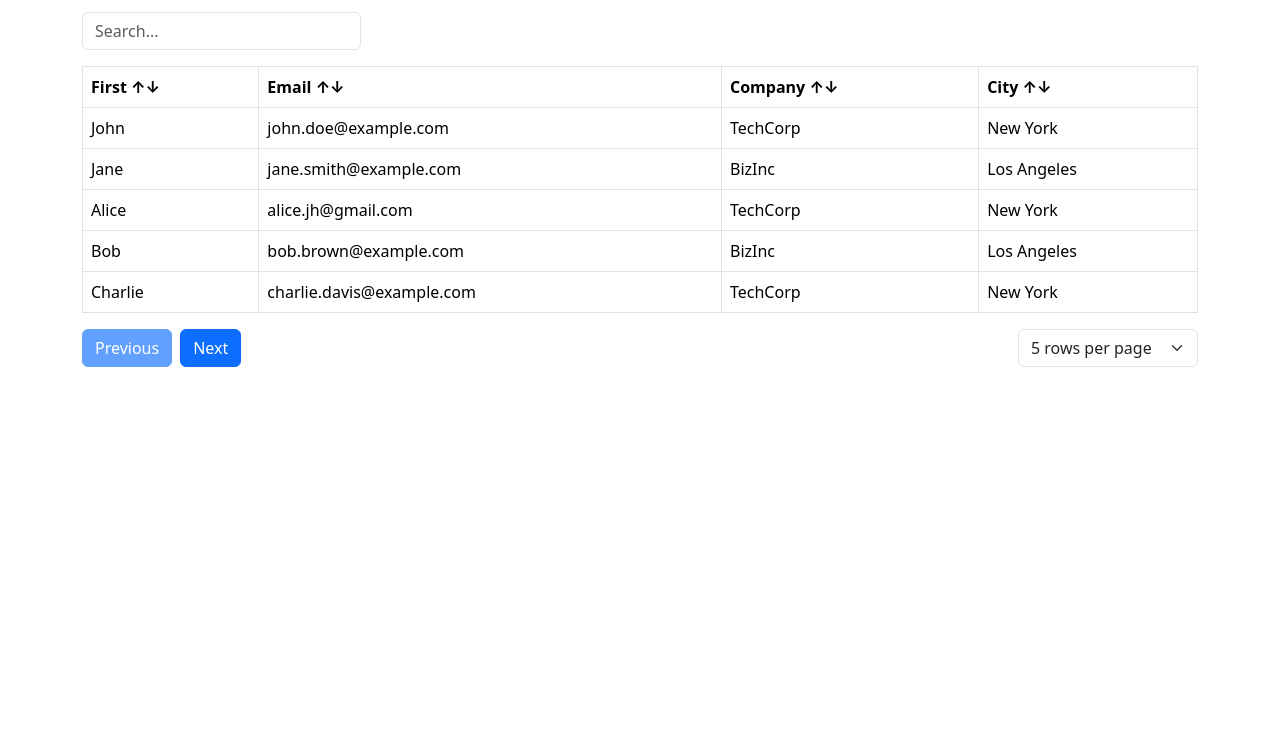
Test case: UserTable › displays user details when a card is clicked
The width and height of the screenshot is (1280, 732).
Click the row "John john.doe@example.com TechCorp New York" at (640,128), box x1=82 y1=108 x2=1198 y2=148
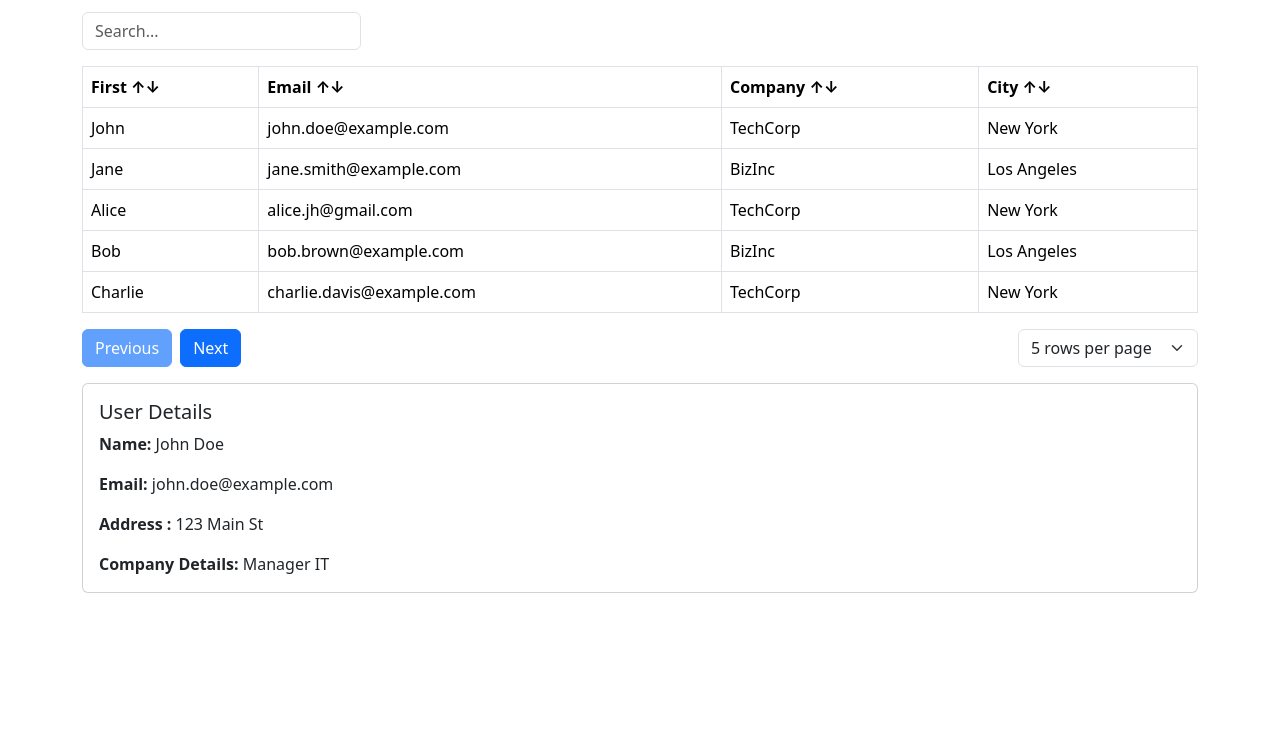
Check: the element with test id "userDisplayCard" is shown, box x1=82 y1=383 x2=1198 y2=593
Check: the text "John Doe" is shown, box x1=156 y1=433 x2=224 y2=455
